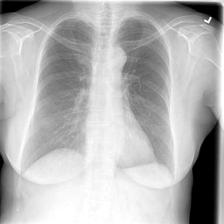normal: (19, 16, 177, 185)
